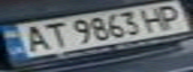3: (118, 8, 145, 37)
6: (106, 11, 127, 39)
8: (90, 15, 112, 43)
9: (69, 16, 93, 45)
A: (15, 24, 54, 54)
H: (136, 3, 172, 33)
P: (151, 2, 190, 30)
T: (36, 20, 69, 48)
